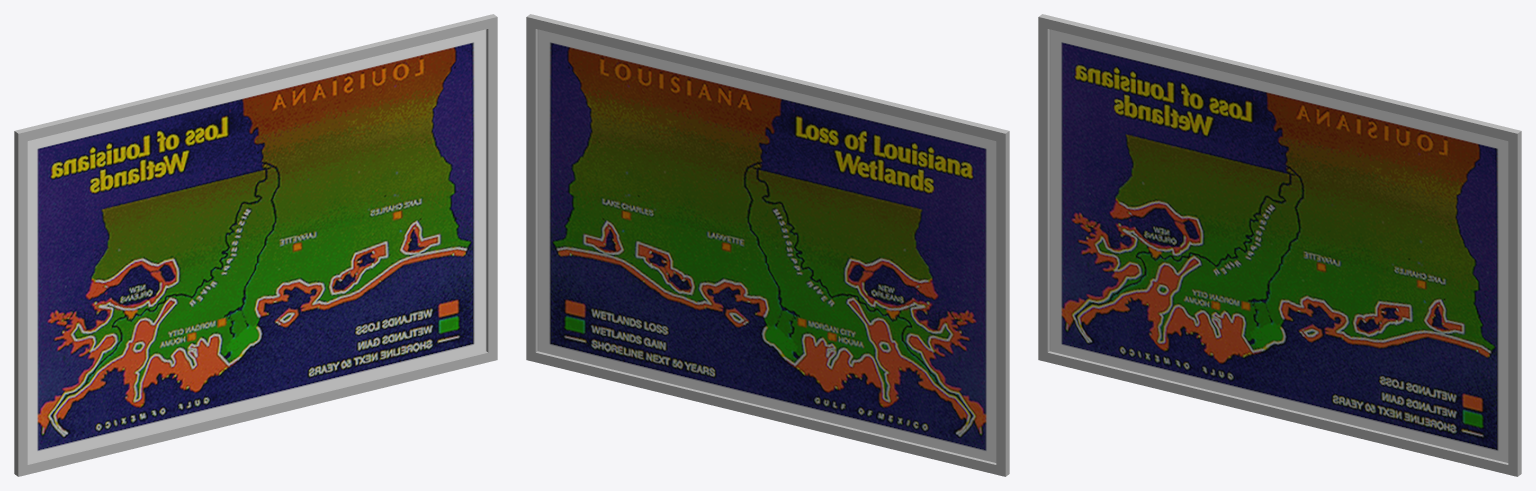
File: Map_C.fbx
The picture shows the model from 3 angles, left to right: view 1: azimuth 30°, elevation 25°; view 2: azimuth 150°, elevation 25°; view 3: azimuth 330°, elevation 25°; orthographic projection.
Parts seen in each view (by area): view 1: mesh_map_B1, mesh_mapframe_B1; view 2: mesh_map_B1, mesh_mapframe_B1; view 3: mesh_map_B1, mesh_mapframe_B1.
Part boxes in pixels (box(x1,y1,x2,y2)): mesh_map_B1: box(27, 29, 486, 462); mesh_mapframe_B1: box(14, 14, 497, 476); mesh_map_B1: box(537, 29, 996, 462); mesh_mapframe_B1: box(526, 14, 1009, 476); mesh_map_B1: box(1049, 29, 1508, 462); mesh_mapframe_B1: box(1038, 14, 1521, 476).
Bounding box in the file's own units: 208 × 142 × 3.
